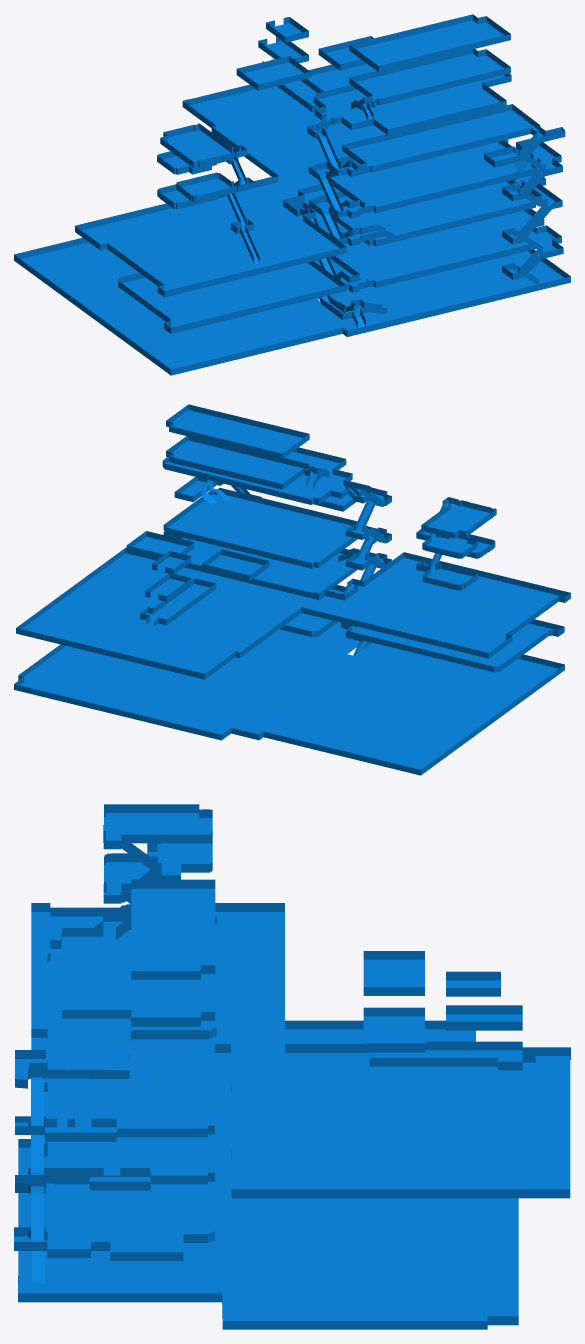
Rendered from Ens_Constraints.fbx.
The picture shows the model from 3 angles, top to bottom: view 1: azimuth 30°, elevation 25°; view 2: azimuth 150°, elevation 25°; view 3: azimuth 270°, elevation 25°; orthographic projection. The views are drawn at different scales.
Visible parts, largest first — view 1: GRP_Constraints; view 2: GRP_Constraints; view 3: GRP_Constraints.
Part boxes in pixels (x1,y1,x2,y2): GRP_Constraints: (14, 14, 570, 375); GRP_Constraints: (14, 404, 570, 775); GRP_Constraints: (14, 804, 570, 1329).
Size of the model in its own units: 6675 by 3753 by 5153.
